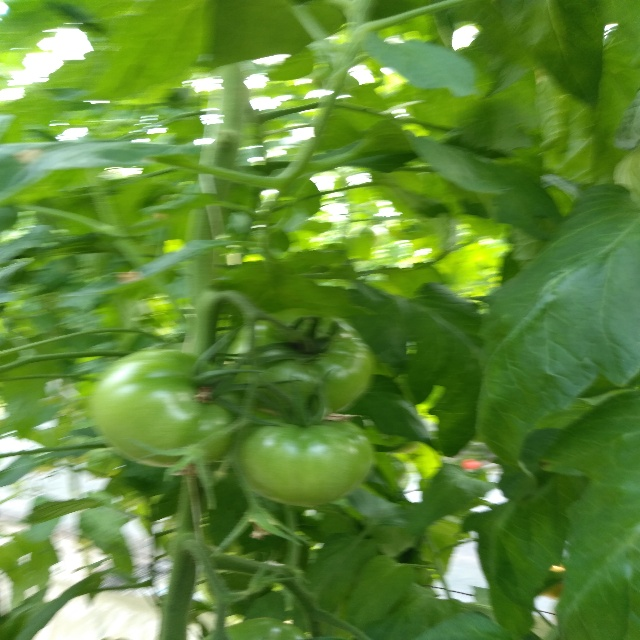b_green: (92, 349, 246, 467), (224, 308, 374, 417), (237, 419, 373, 507)
